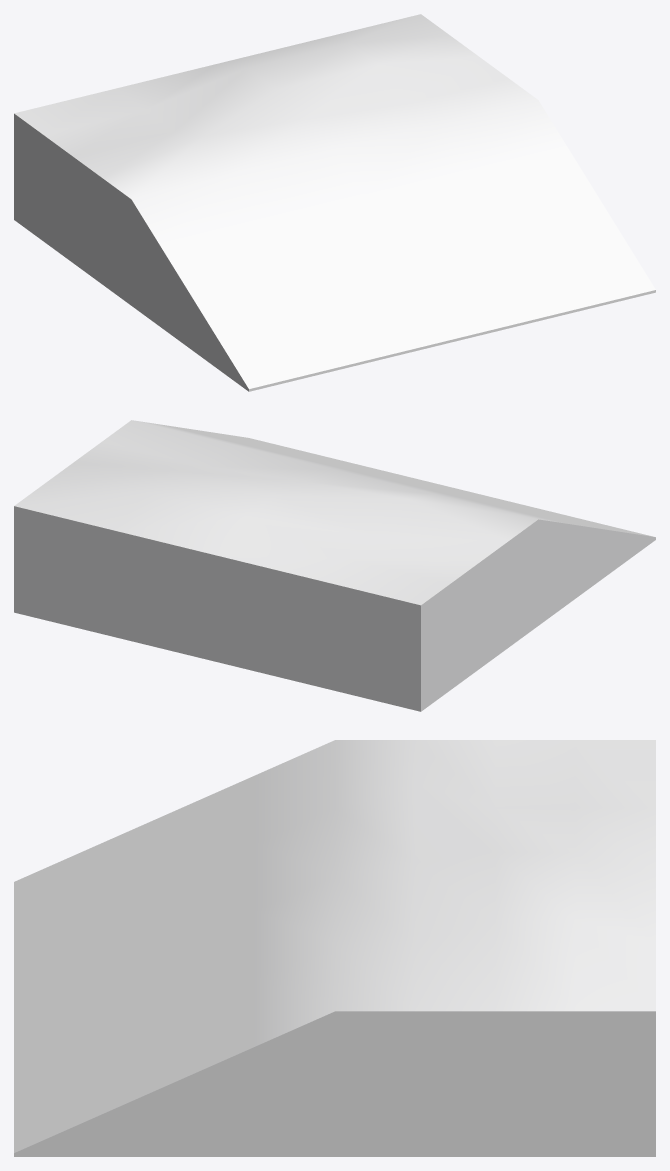
File: uniformedTile-16_col.fbx
The picture shows the model from 3 angles, top to bottom: view 1: azimuth 30°, elevation 25°; view 2: azimuth 150°, elevation 25°; view 3: azimuth 270°, elevation 25°; orthographic projection. The views are drawn at different scales.
Visible parts, largest first — view 1: uniformedTile-16.col; view 2: uniformedTile-16.col; view 3: uniformedTile-16.col.
Boxes of the visible parts, x1,y1,x2,y2 form: uniformedTile-16.col: (14,14,655,391); uniformedTile-16.col: (14,420,655,711); uniformedTile-16.col: (14,740,655,1156).
Size of the model in its own units: 2 by 0.5797 by 2.
1 material, 1 textured.
